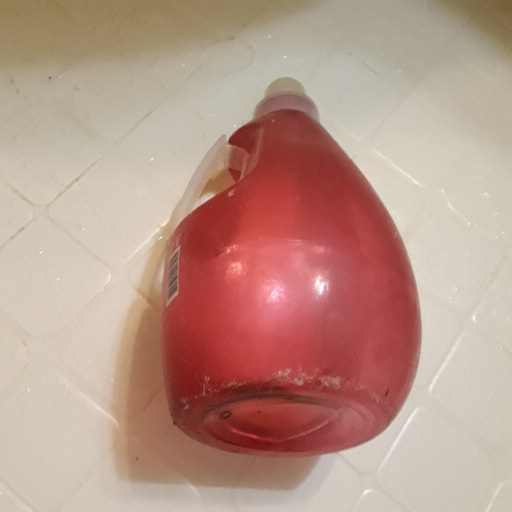Plastic_1: (161, 75, 421, 452)
